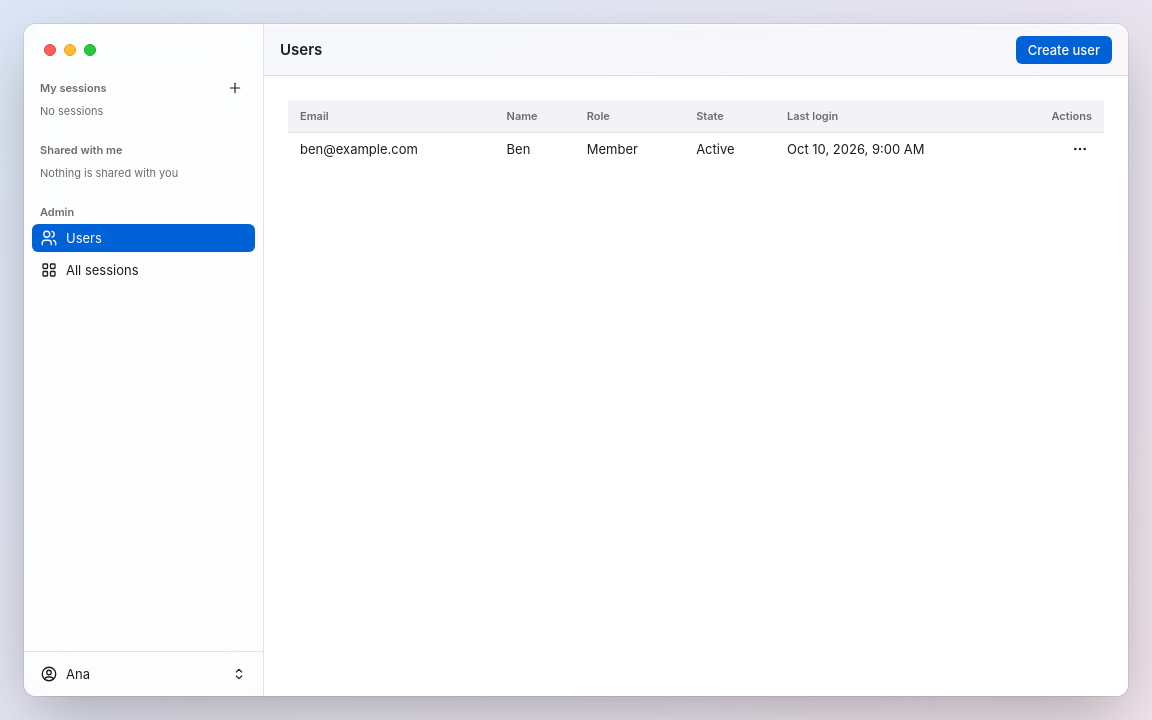
Admin → Users › creates a user and shows the one-time password one time
This screenshot has width=1152, height=720.
Expected: the cell "ben@example.com" is shown, top-left (288, 132), bottom-right (494, 164)
Expected: the cell "Active" is shown, top-left (684, 132), bottom-right (775, 164)
Click the button "Create user" at (1064, 50), box top-left (1016, 36), bottom-right (1112, 64)
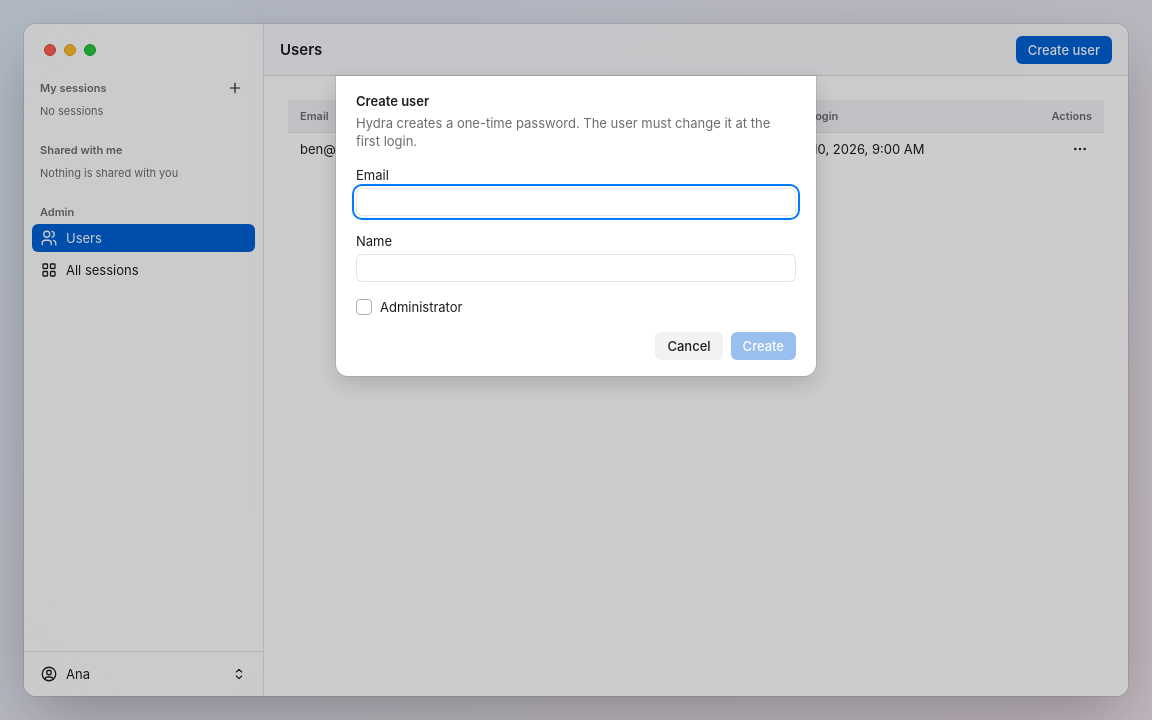
Type "cleo@example.com" into the field labelled "Email" at (576, 202), box top-left (356, 188), bottom-right (796, 216)
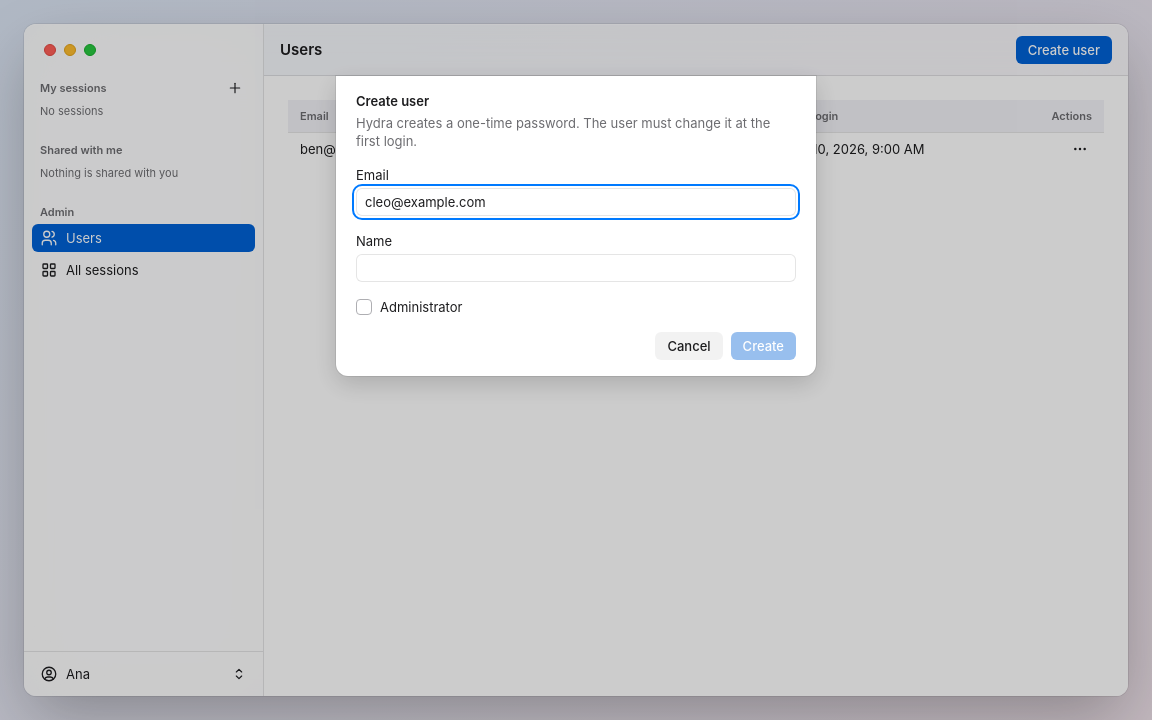
Type "Cleo" into the field labelled "Name" at (576, 268), box top-left (356, 254), bottom-right (796, 282)
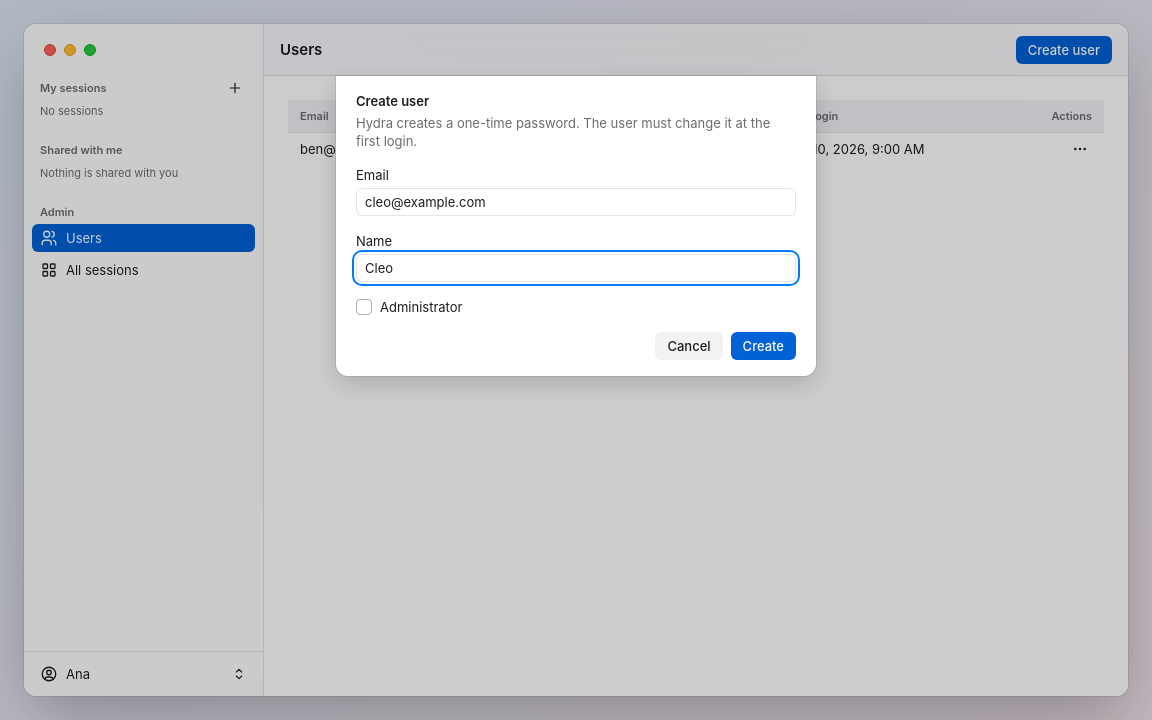
Click the checkbox named "Administrator" at (364, 307), box top-left (356, 299), bottom-right (372, 315)
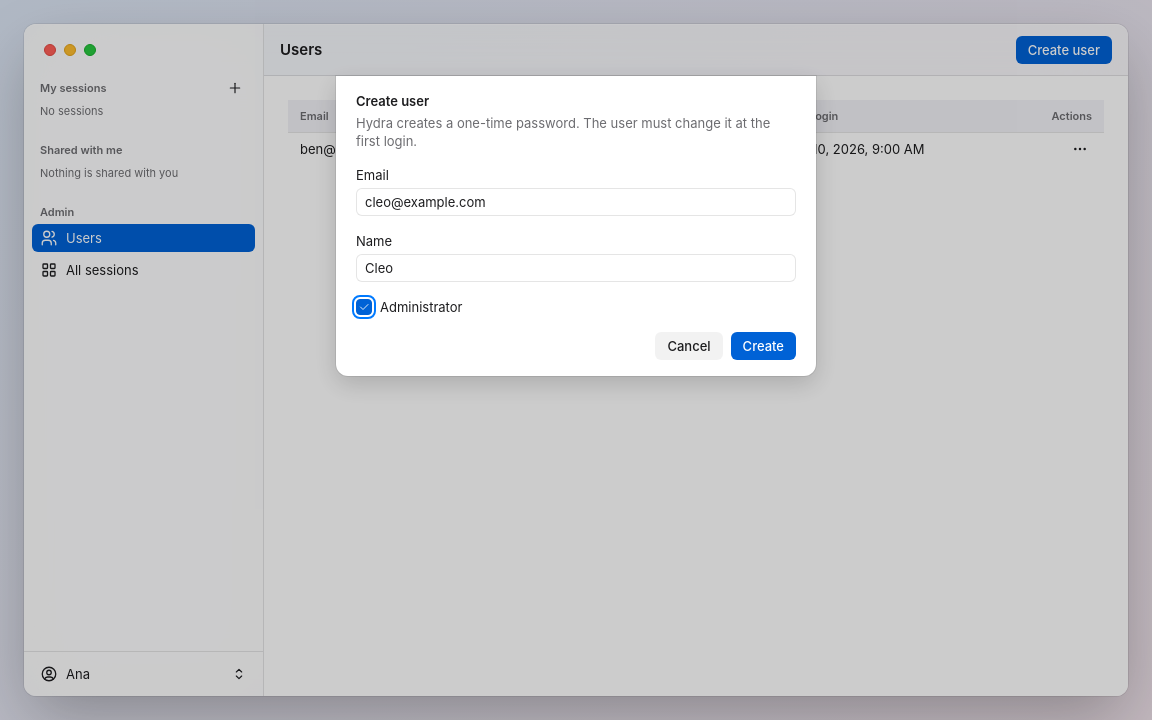
Click the button "Create" at (763, 346), box top-left (731, 332), bottom-right (796, 360)
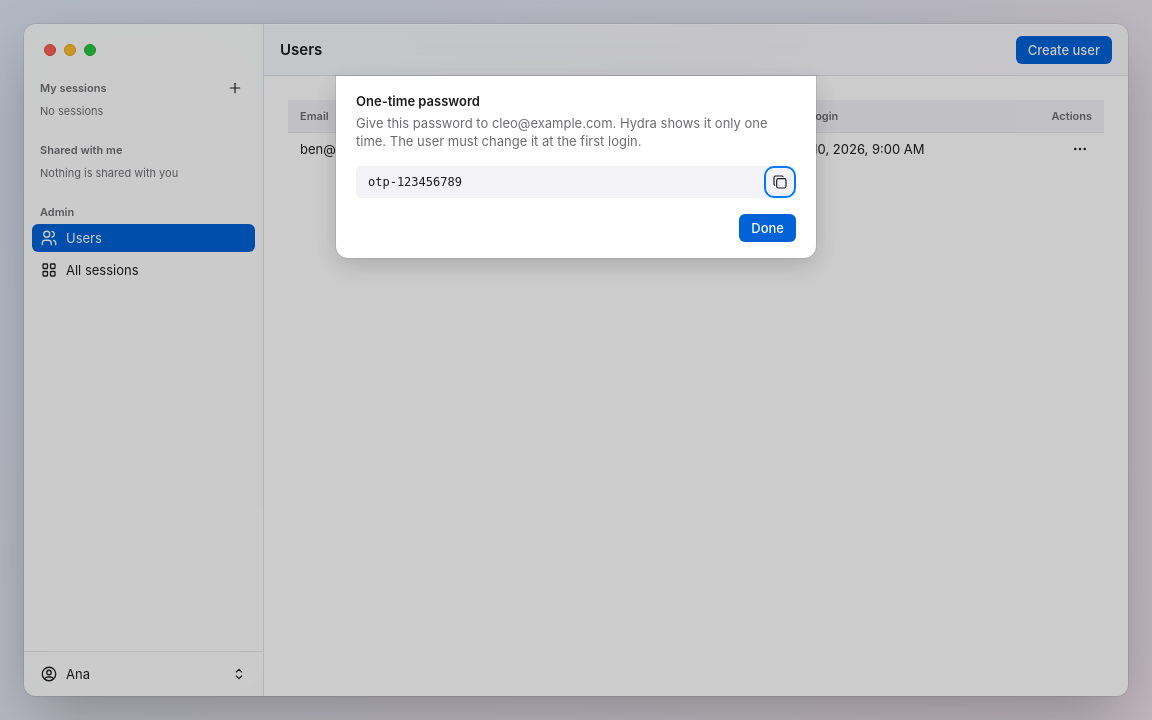
Expected: the element named "One-time password" reads "otp-123456789", top-left (368, 175), bottom-right (462, 189)
Click the button "Done" at (768, 228), box top-left (739, 214), bottom-right (796, 242)
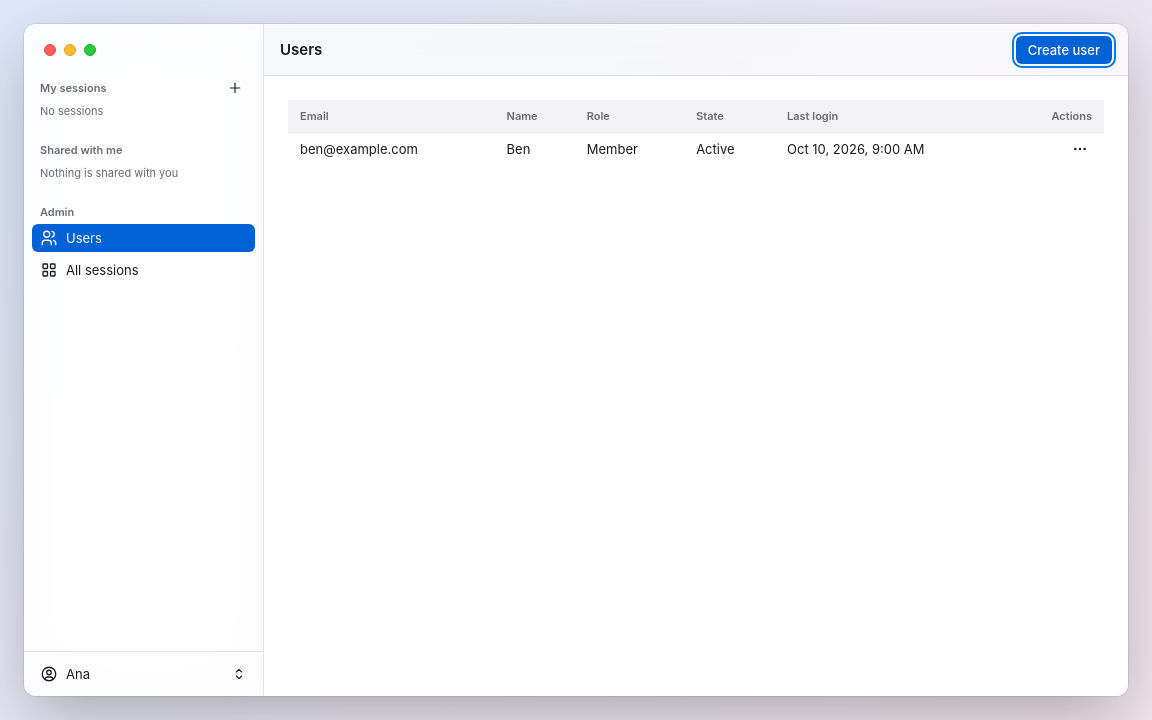
Expected: the text "otp-123456789" is gone
